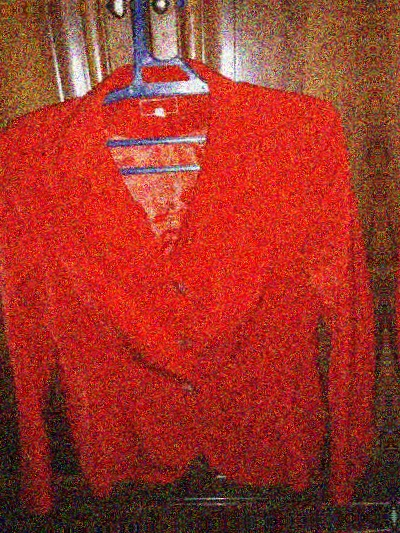Blazer: (0, 58, 379, 524), (389, 40, 400, 505), (0, 528, 400, 533)
